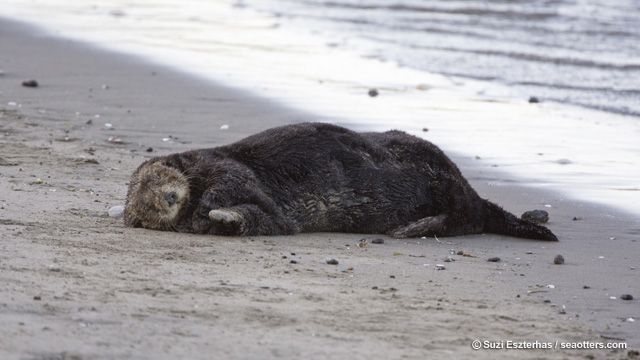otter: (115, 105, 592, 283)
